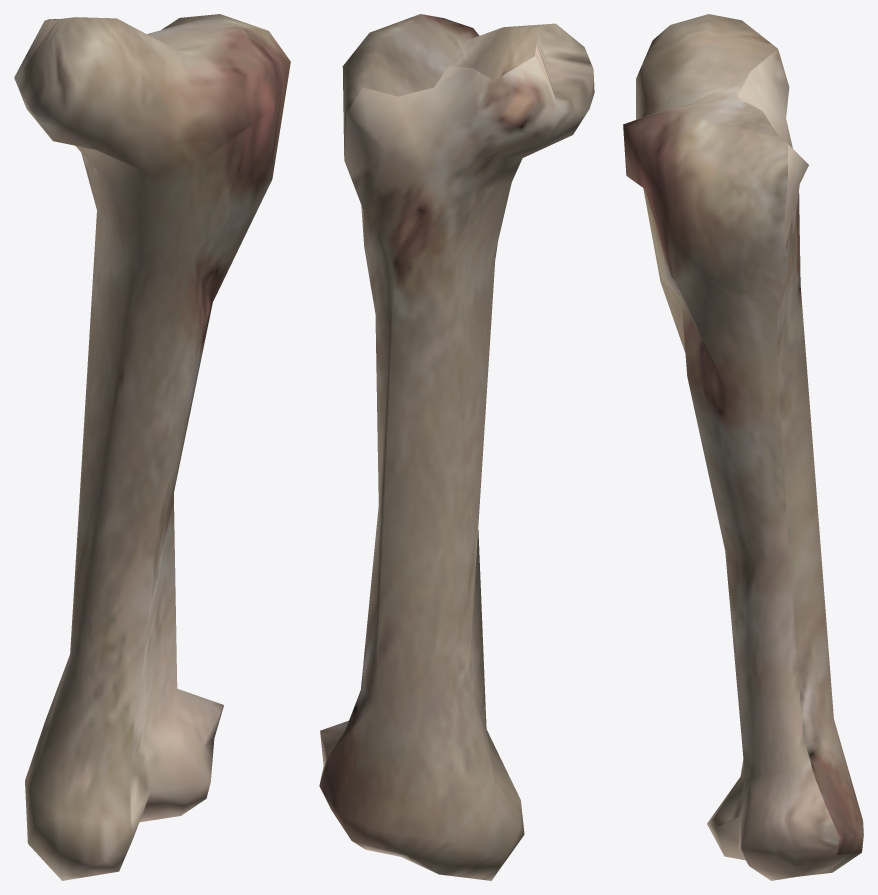
File: Bone.fbx
The picture shows the model from 3 angles, left to right: view 1: azimuth 30°, elevation 25°; view 2: azimuth 150°, elevation 25°; view 3: azimuth 270°, elevation 25°; orthographic projection. The views are drawn at different scales.
Visible parts, largest first — view 1: FX_bone_001_SM_CJH; view 2: FX_bone_001_SM_CJH; view 3: FX_bone_001_SM_CJH.
Part boxes in pixels (<box>): FX_bone_001_SM_CJH: <box>14,14,290,880</box>; FX_bone_001_SM_CJH: <box>319,14,594,880</box>; FX_bone_001_SM_CJH: <box>623,14,863,880</box>.
Size of the model in its own units: 1.4 by 4.65 by 1.21.
1 material, 1 textured.
